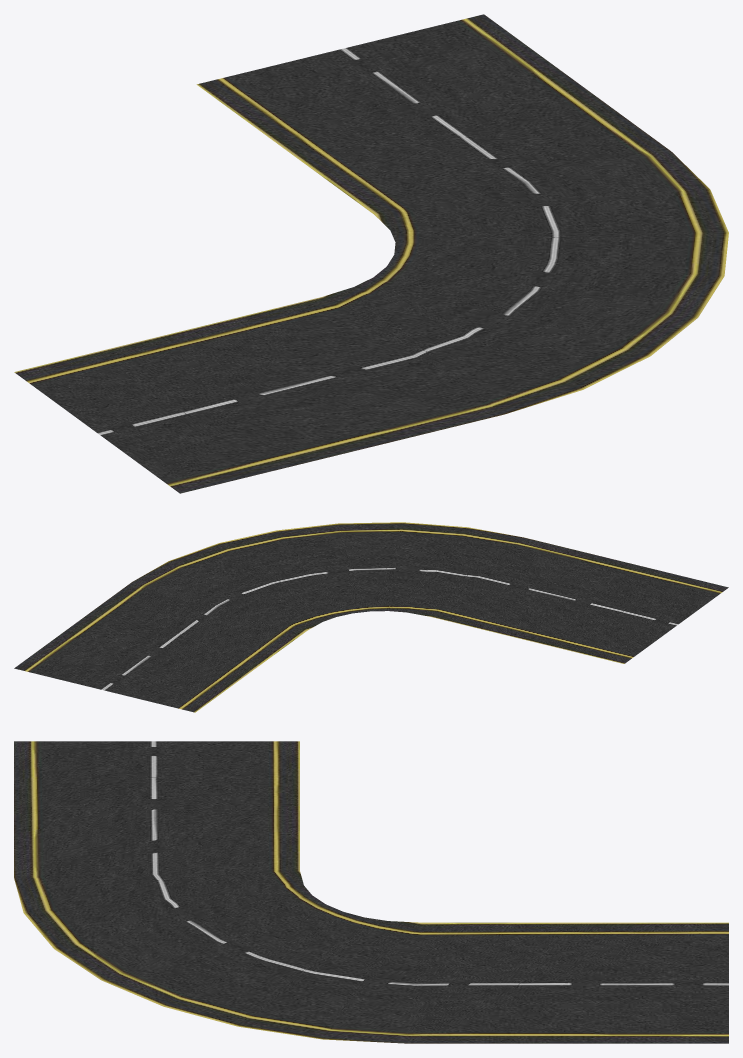
The model's file is Road2.fbx.
The picture shows the model from 3 angles, top to bottom: view 1: azimuth 30°, elevation 25°; view 2: azimuth 150°, elevation 25°; view 3: azimuth 270°, elevation 25°; orthographic projection. The views are drawn at different scales.
Visible parts, largest first — view 1: Road2; view 2: Road2; view 3: Road2.
Boxes of the visible parts, x1,y1,x2,y2 form: Road2: (14, 14, 728, 493); Road2: (14, 522, 728, 712); Road2: (14, 741, 728, 1043).
Size of the model in its own units: 25 by 2.19e-06 by 25.
1 material, 1 textured.
